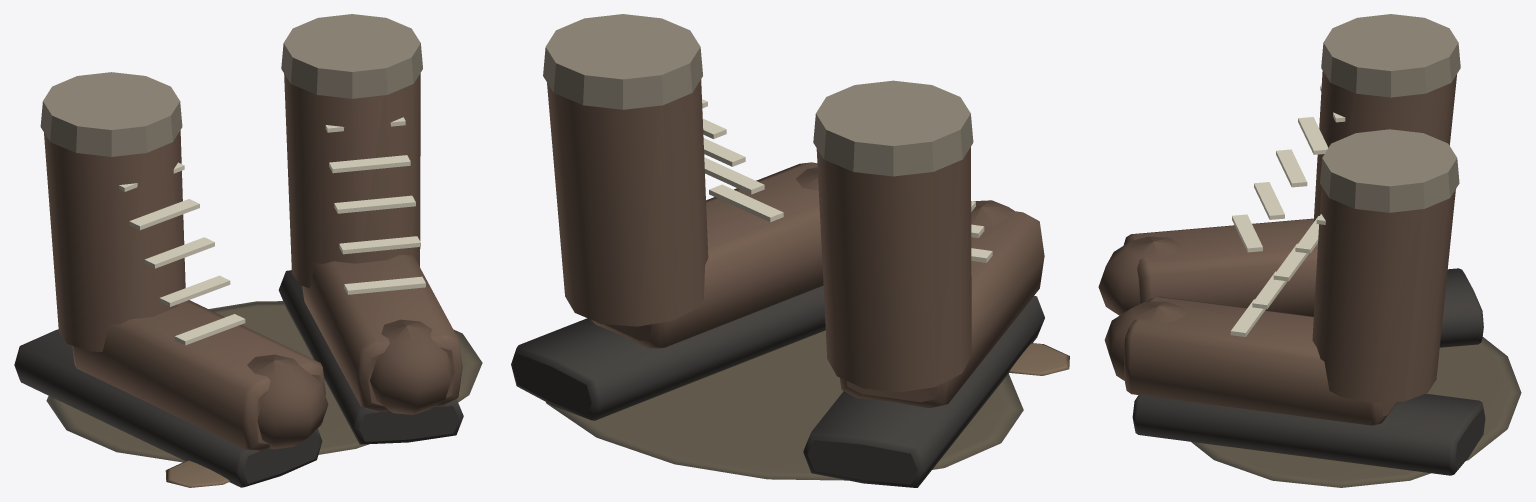
File: cabin_boots_a.glb
3 views of the same model, side by side, from view 1: azimuth 30°, elevation 25°; view 2: azimuth 150°, elevation 25°; view 3: azimuth 270°, elevation 25° (orthographic). The views are drawn at different scales.
Parts seen in each view (by area): view 1: body; view 2: body; view 3: body.
Part boxes in pixels (x1,y1,x2,y2): body: [14, 14, 482, 487]; body: [511, 14, 1069, 487]; body: [1098, 14, 1521, 487].
Bounding box in the file's own units: 0.4 × 0.285 × 0.3756.
